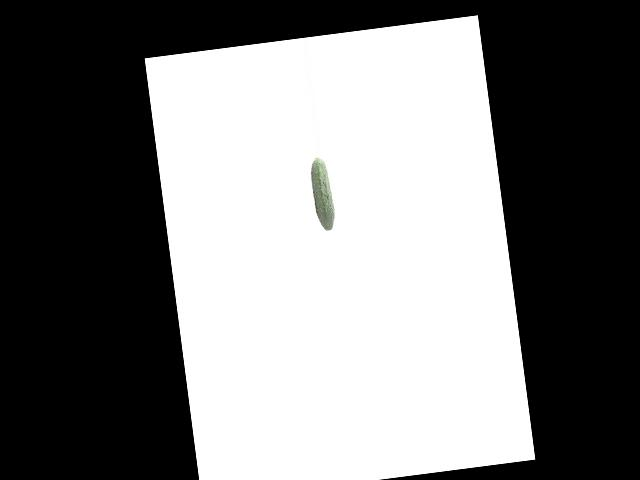cucumber: (308, 156, 336, 232)
